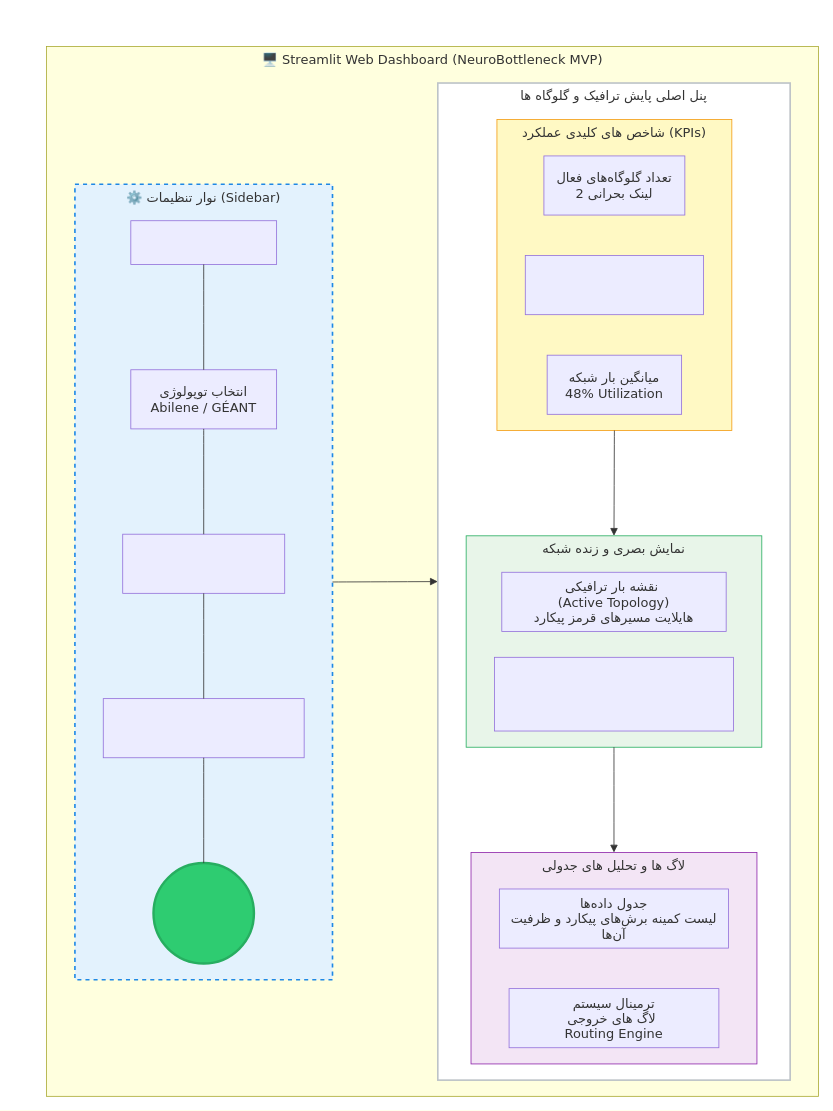
Image size: 833x1111. Some labels were removed from this diagram. Here are the shapes that lost their labels. From the top down, the centre of each, then its label:
point 203,242: تنظیمات ورودی سیستم
point 613,285: "بیشترین افت ظرفیت" لینک ATLAM5 -> ATLAng
point 203,563: انتخاب اسنپ‌ شات ترافیک Time: 08:00 - 08:05
point 613,694: درخت گوموری-هو (Gomory-Hu Tree) نمایش ظرفیت‌های باقیمانده (Residual)
point 203,728: الگوریتم‌ های فعال Gomory-Hu / Picard / DRL
point 203,912: ▶ اجرای پایپلاین
